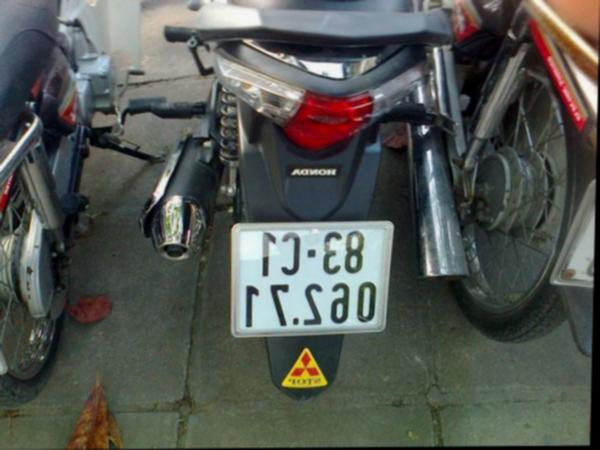License_Plate: (229, 219, 395, 342)
